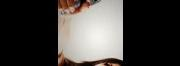gun: (57, 0, 100, 31)
